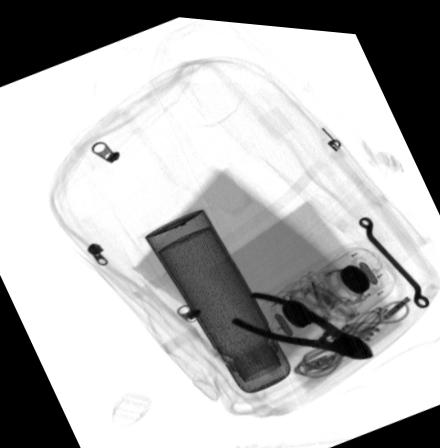Pliers: (227, 285, 374, 354)
Wrench: (357, 208, 428, 300)
